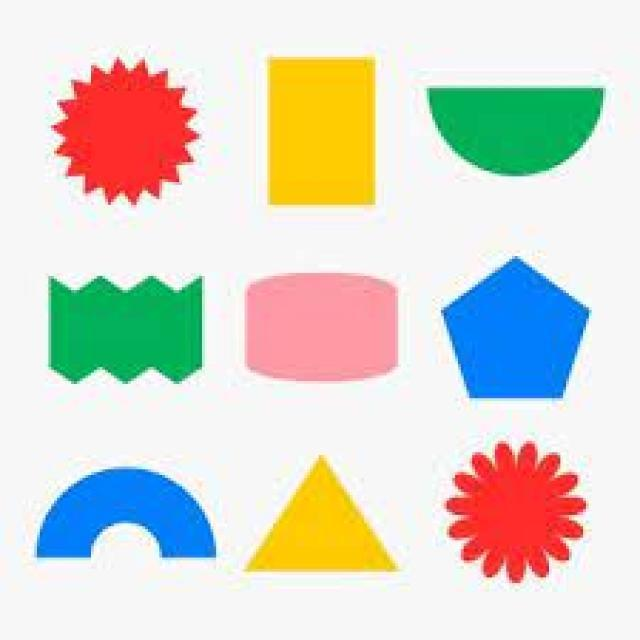square: (243, 13, 409, 232)
triangle: (240, 431, 420, 614)
